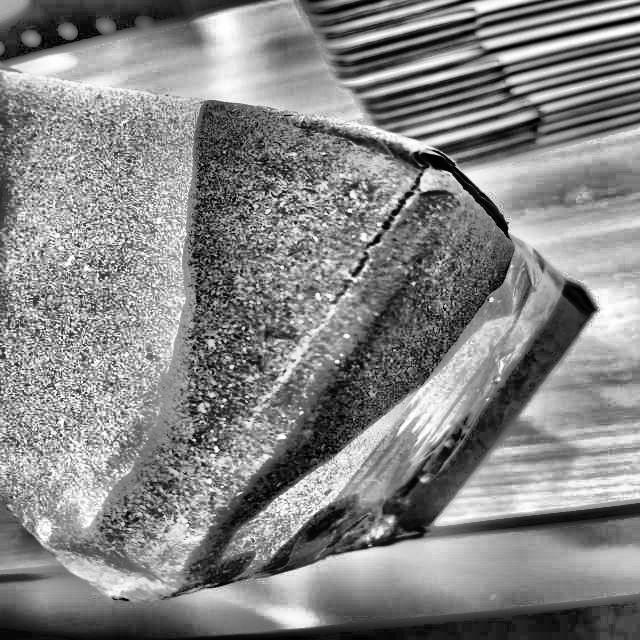box: (0, 62, 603, 610)
wet: (125, 103, 591, 597)
